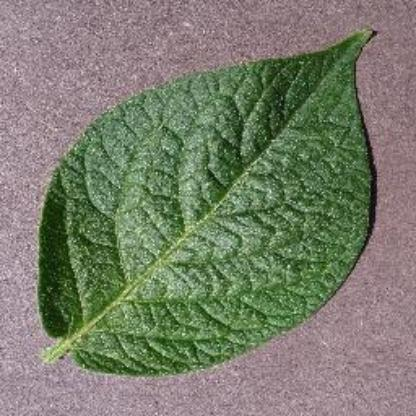Healthy-plant: (27, 25, 392, 377)
